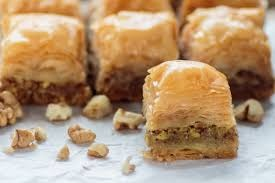baklava: (143, 60, 237, 161), (179, 0, 273, 100), (0, 0, 90, 104), (90, 0, 178, 100)
